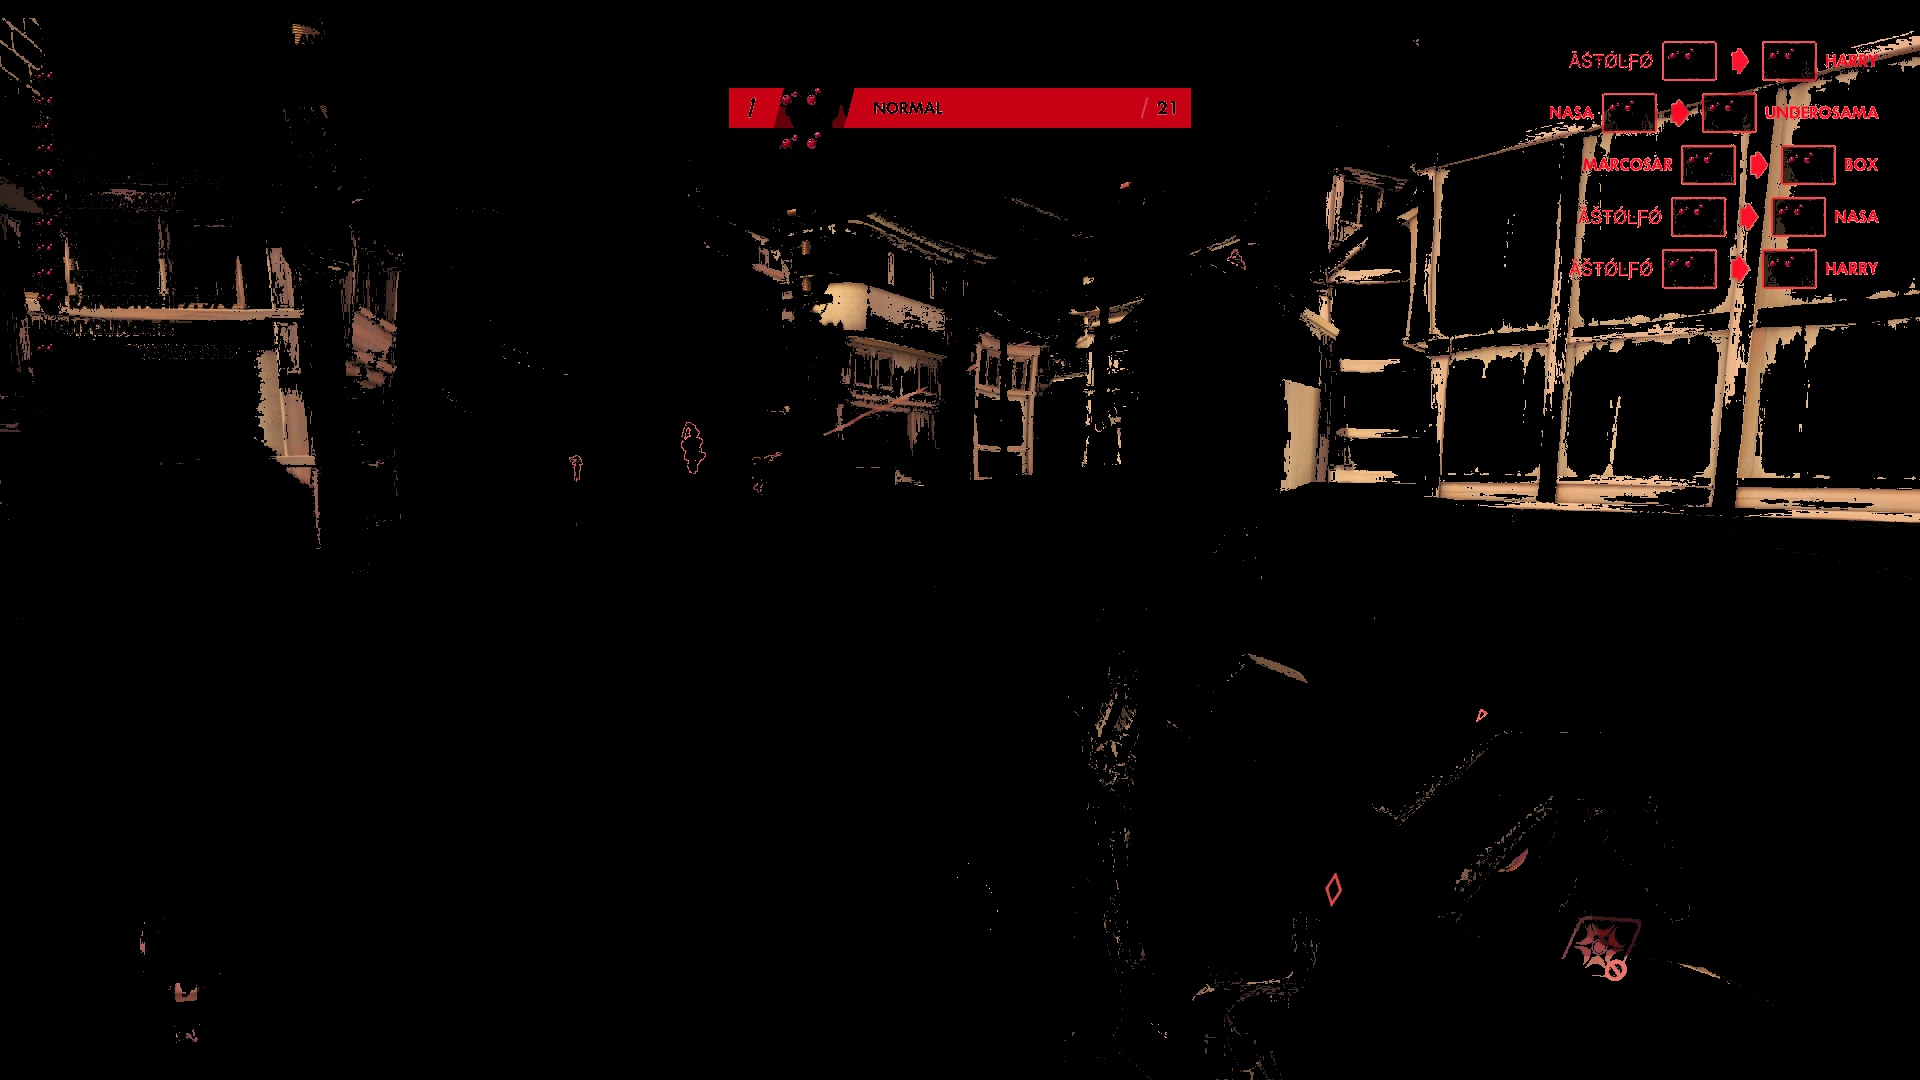widowmaker: (678, 421, 712, 476), (1221, 245, 1253, 281), (568, 455, 589, 487)
